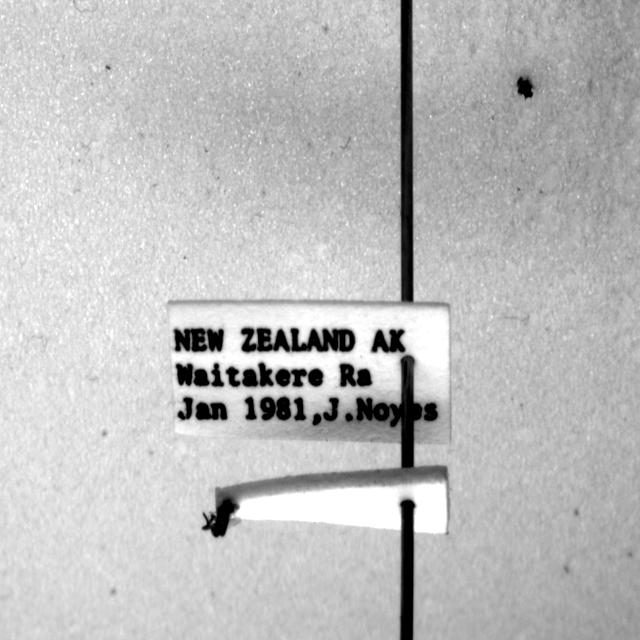typed_label: (168, 302, 450, 442)
